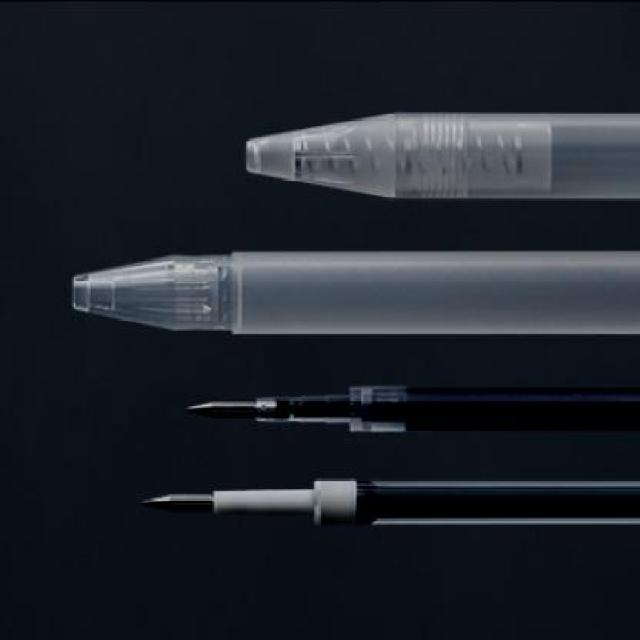pen: (70, 251, 640, 335), (252, 111, 640, 192), (154, 475, 640, 530), (193, 390, 640, 431)
